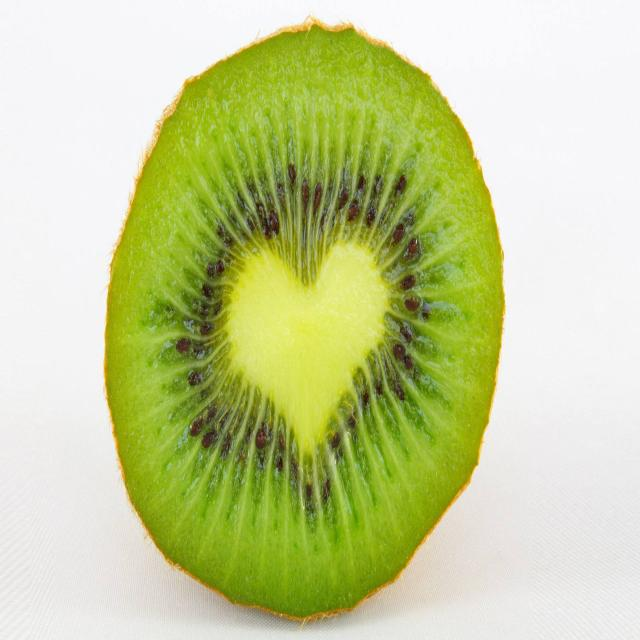Qiwi: (121, 42, 494, 596)
